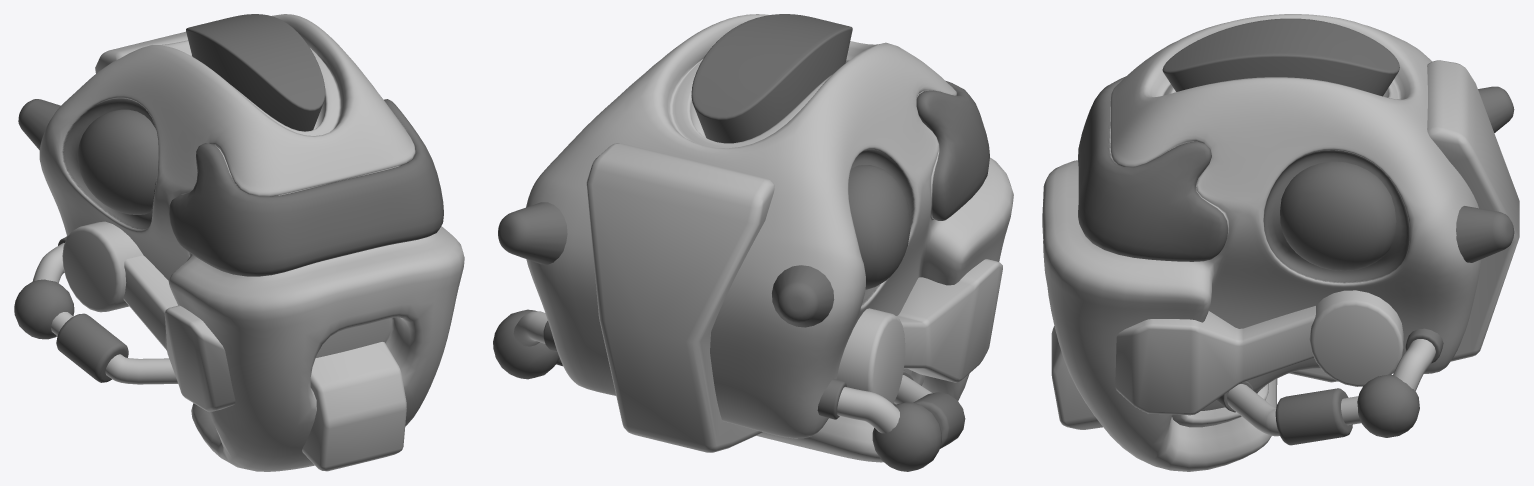
The model's file is yberpunk_robot_head_sketch.glb.
The picture shows the model from 3 angles, left to right: view 1: azimuth 30°, elevation 25°; view 2: azimuth 150°, elevation 25°; view 3: azimuth 270°, elevation 25°; orthographic projection. The views are drawn at different scales.
Parts seen in each view (by area): view 1: guyujg, Cone; view 2: guyujg, Cone; view 3: guyujg, Cone.
Part boxes in pixels (bbox=[...]): guyujg: bbox=[39, 14, 464, 471]; Cone: bbox=[14, 99, 177, 384]; guyujg: bbox=[526, 14, 1013, 462]; Cone: bbox=[493, 202, 965, 471]; guyujg: bbox=[1042, 14, 1519, 471]; Cone: bbox=[1217, 86, 1514, 445].
Size of the model in its own units: 19.76 by 19.18 by 20.29.
2 materials, 2 textured.
